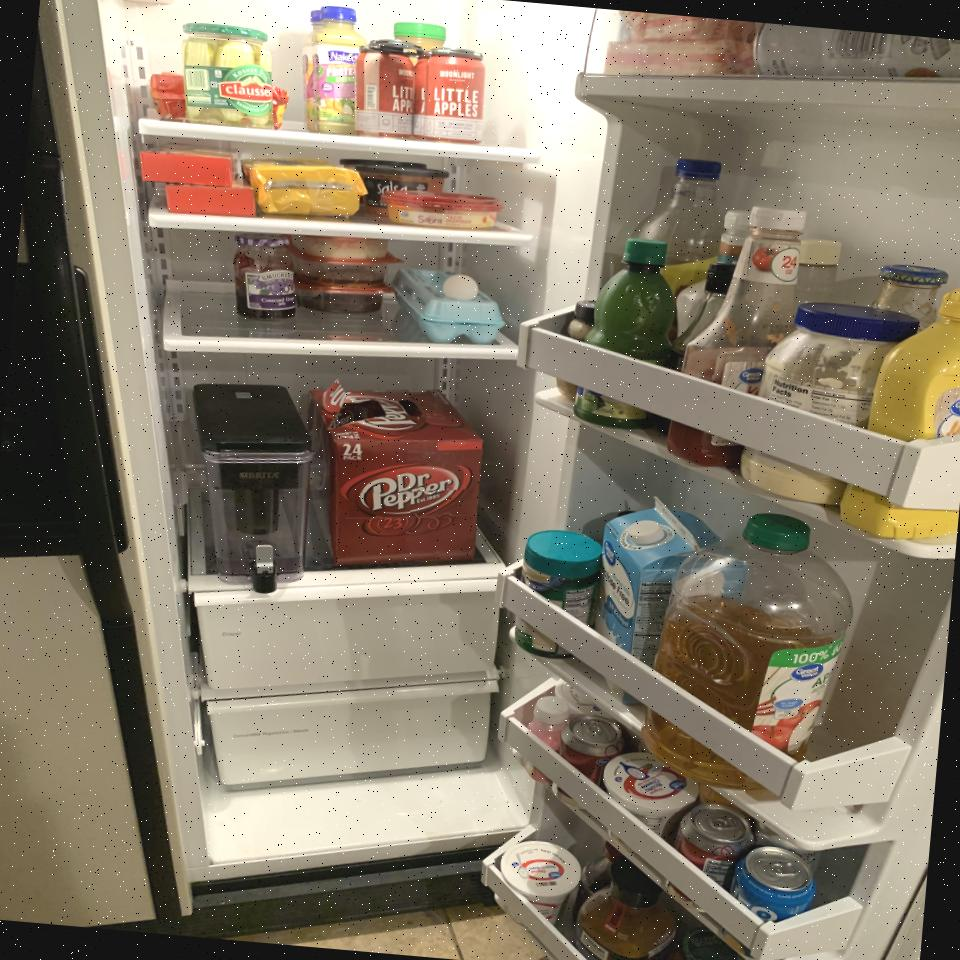Huevos: (390, 266, 507, 347)
